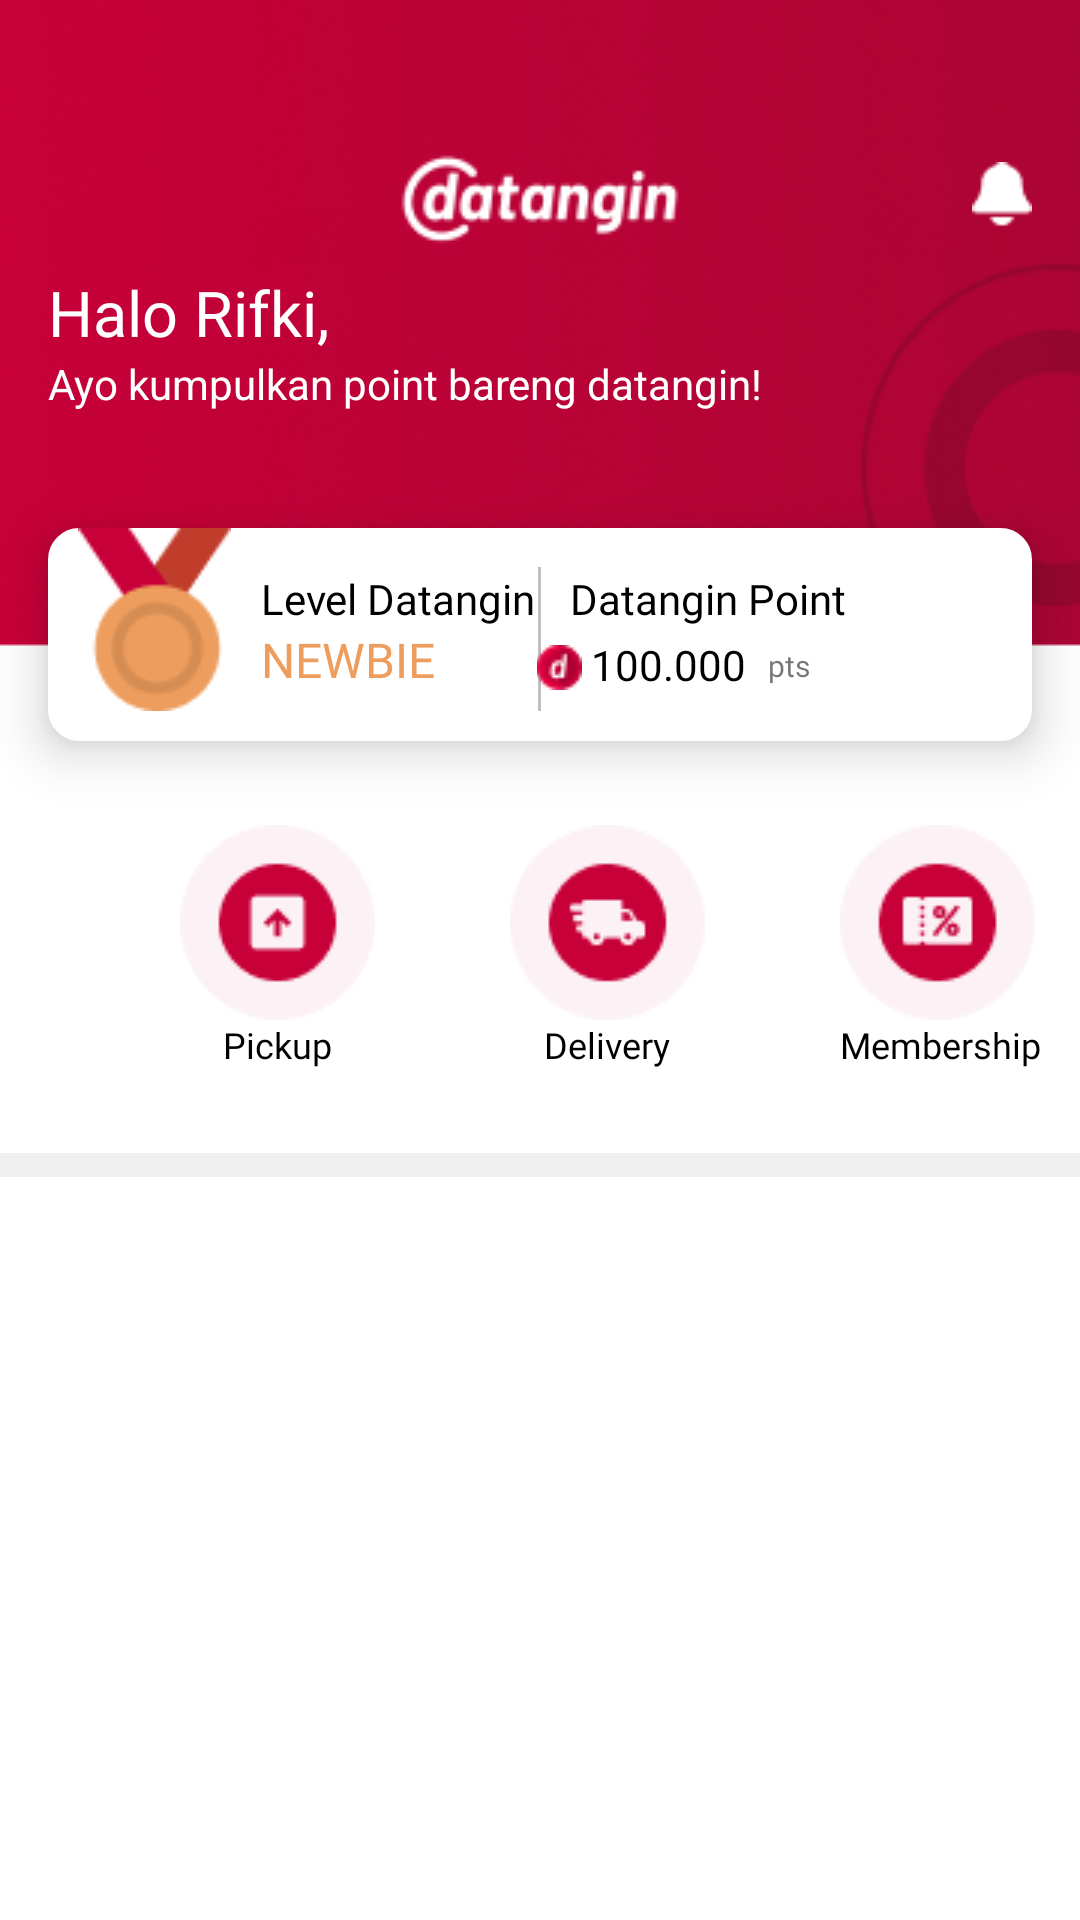

Where icons sit on this 1080px×1920px app screen, as bbox(x1, y1, x2, y2):
lonceng: bbox(972, 162, 1032, 226)
medali: bbox(78, 528, 231, 711)
